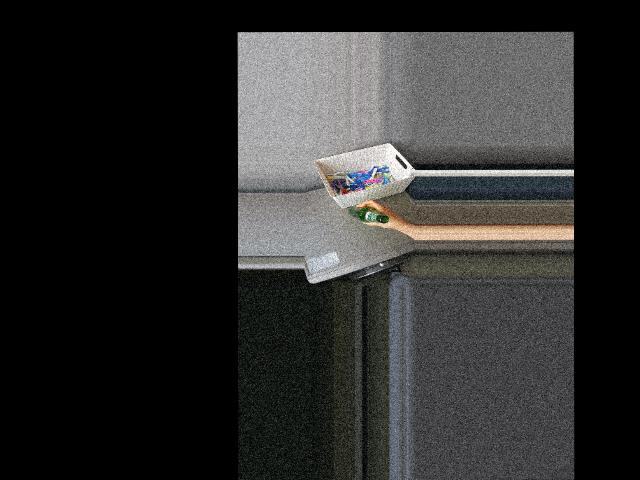beer: (348, 204, 389, 223)
